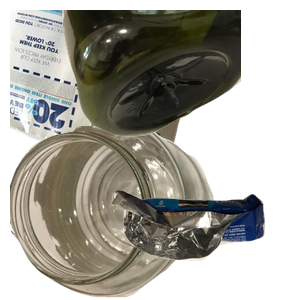glass: (10, 126, 216, 300)
paper: (10, 10, 215, 186)
plastic: (60, 10, 300, 139)
trash: (109, 187, 300, 300)
